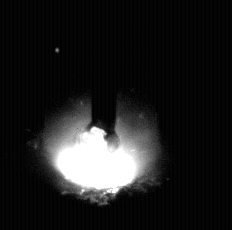arame: (92, 0, 121, 150)
poca: (43, 0, 161, 230)
